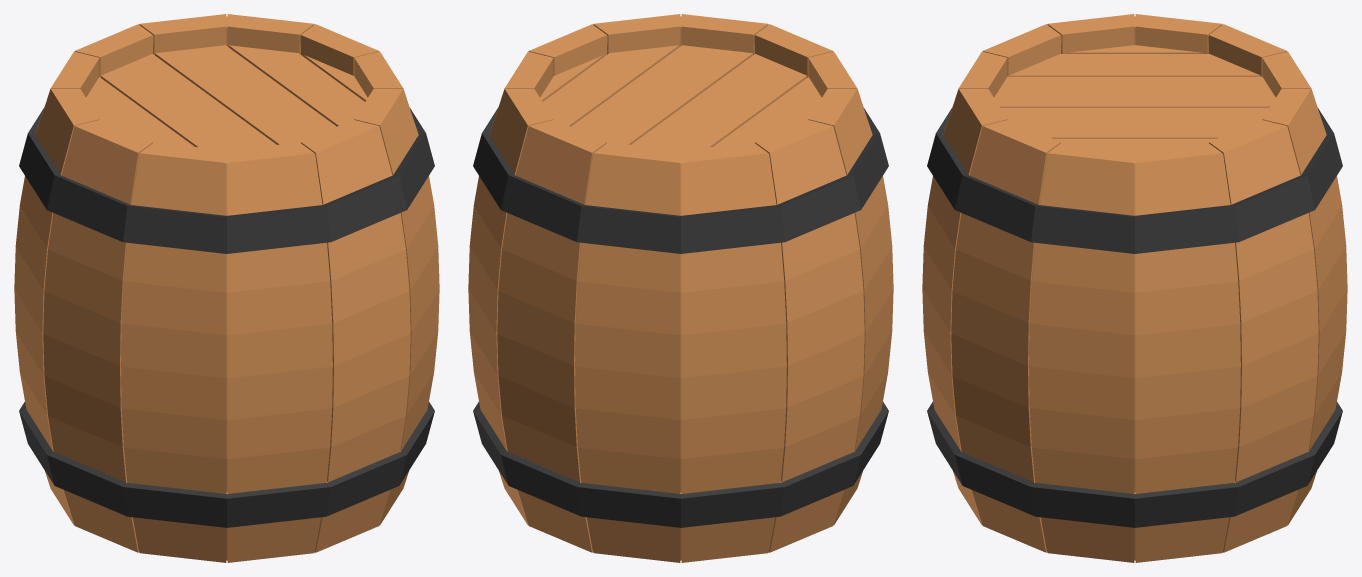
The model's file is sample3.glb.
3 renders of one model, left to right at view 1: azimuth 30°, elevation 25°; view 2: azimuth 150°, elevation 25°; view 3: azimuth 270°, elevation 25°, orthographic.
Parts seen in each view (by area): view 1: Cylinder, Cylinder.001, Cylinder.002; view 2: Cylinder, Cylinder.001, Cylinder.002; view 3: Cylinder, Cylinder.001, Cylinder.002.
Part boxes in pixels (left/top/right/bottom): Cylinder: left=14, top=14, right=439, bottom=562; Cylinder.001: left=19, top=108, right=434, bottom=527; Cylinder.002: left=86, top=45, right=367, bottom=152; Cylinder: left=468, top=14, right=893, bottom=562; Cylinder.001: left=473, top=108, right=888, bottom=527; Cylinder.002: left=540, top=45, right=821, bottom=152; Cylinder: left=922, top=14, right=1347, bottom=562; Cylinder.001: left=927, top=108, right=1342, bottom=527; Cylinder.002: left=994, top=45, right=1275, bottom=152.
Bounding box in the file's own units: 2.41 × 2.5 × 2.41.
